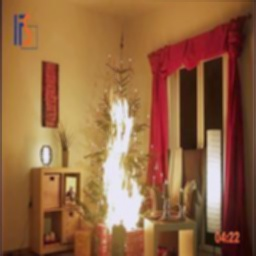fire: (88, 83, 150, 235)
